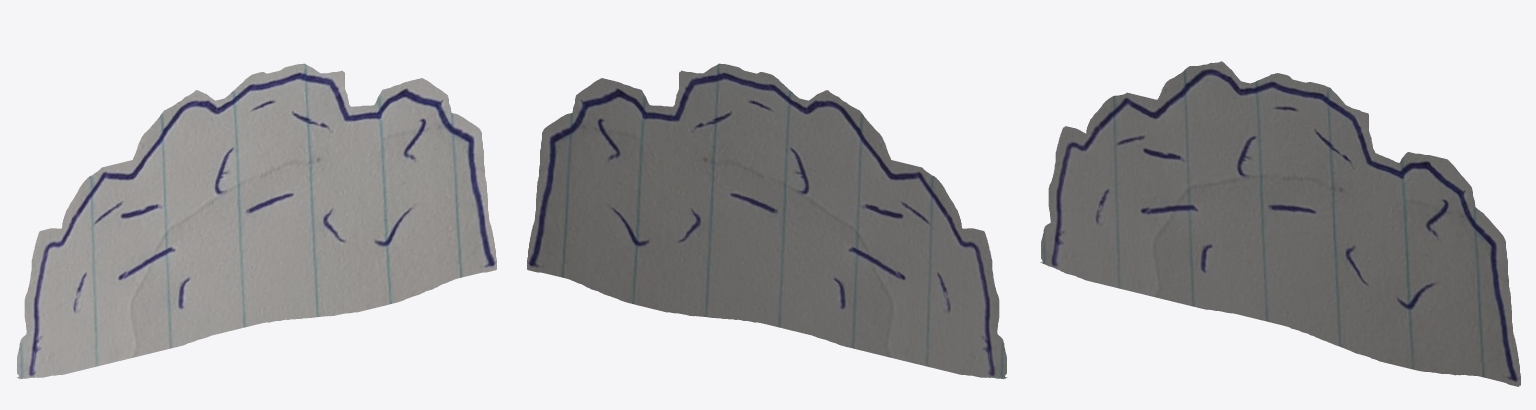
Rendered from Steen1.fbx.
3 views of the same model, side by side, from view 1: azimuth 30°, elevation 25°; view 2: azimuth 150°, elevation 25°; view 3: azimuth 330°, elevation 25° (orthographic).
Parts seen in each view (by area): view 1: Plane; view 2: Plane; view 3: Plane.
Part boxes in pixels (x1,y1,x2,y2): Plane: (16, 63, 496, 378); Plane: (527, 63, 1007, 378); Plane: (1040, 61, 1520, 386).
Size of the model in its own units: 881 by 460 by 4.85.
1 material, 1 textured.
